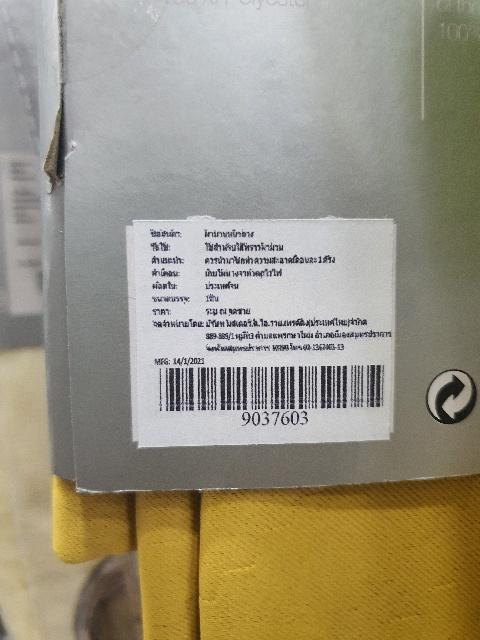Barcode: (152, 356, 391, 429)
